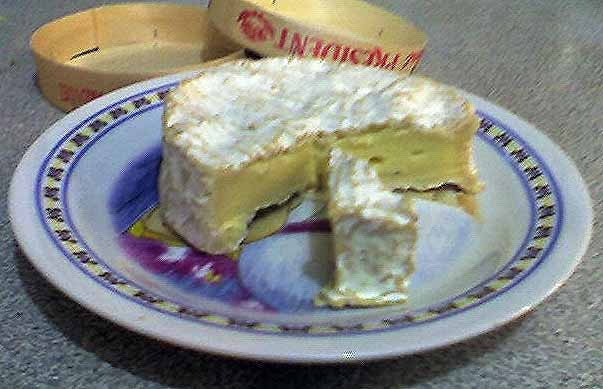camembert: (156, 54, 486, 306)
